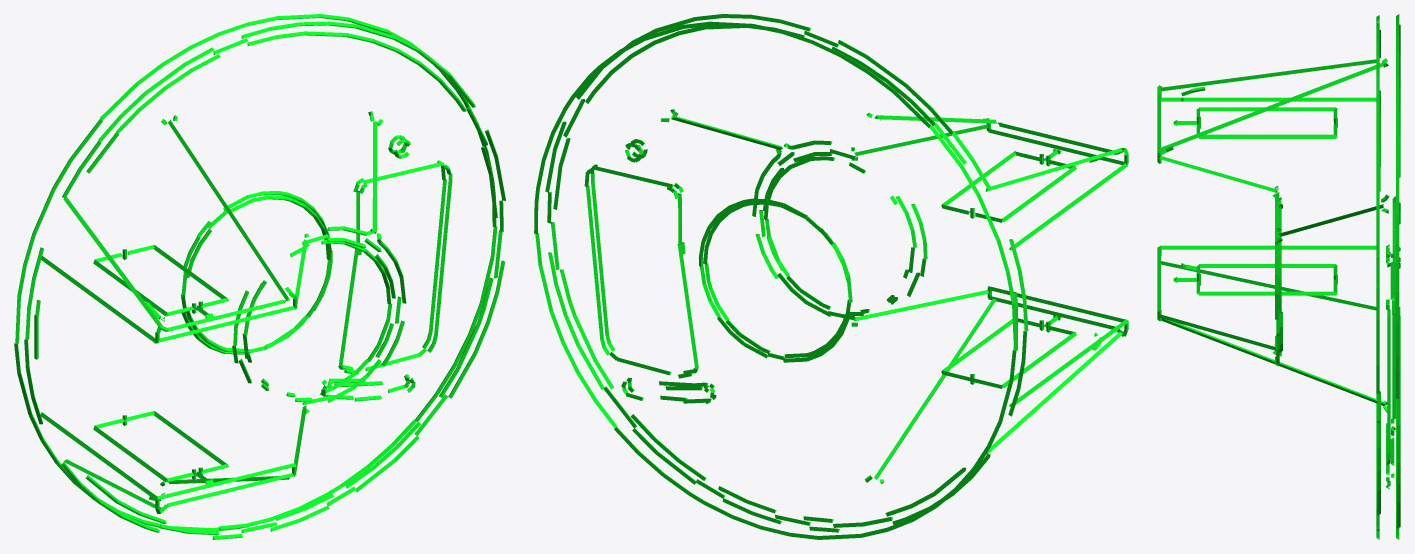
File: VIS_TRACK.obj
The picture shows the model from 3 angles, left to right: view 1: azimuth 30°, elevation 25°; view 2: azimuth 150°, elevation 25°; view 3: azimuth 270°, elevation 25°; orthographic projection. The views are drawn at different scales.
Bounding box in the file's own units: 16.12 × 16.12 × 7.44.
